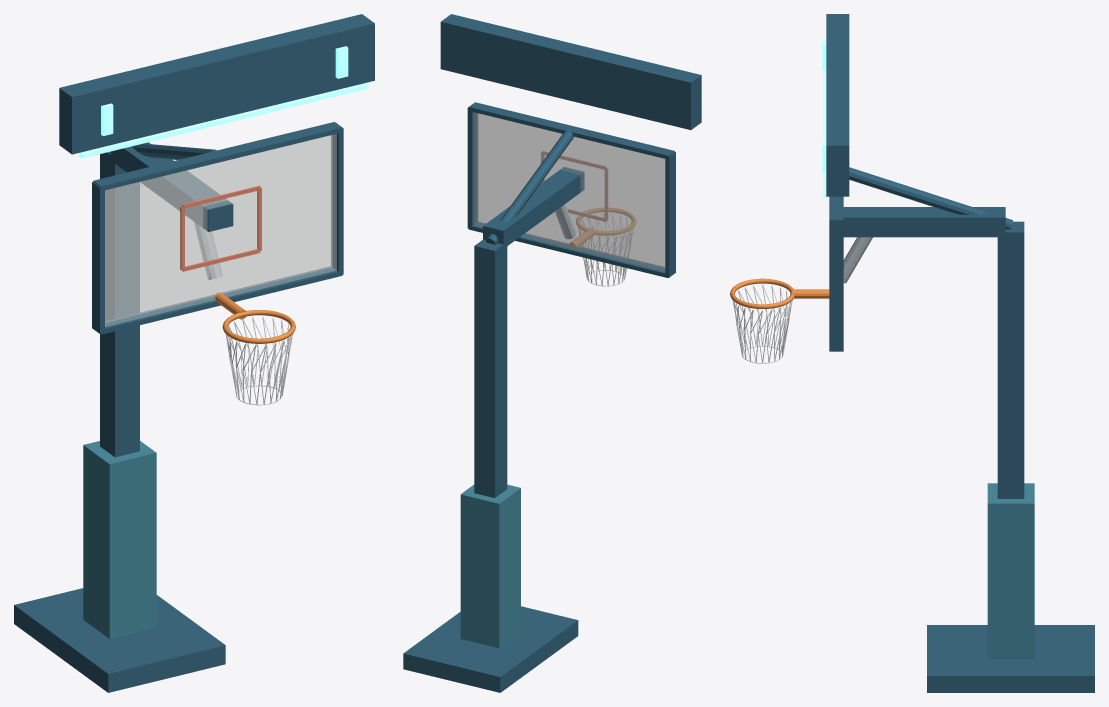
File: basket.gltf
The picture shows the model from 3 angles, left to right: view 1: azimuth 30°, elevation 25°; view 2: azimuth 150°, elevation 25°; view 3: azimuth 270°, elevation 25°; orthographic projection. The views are drawn at different scales.
Parts seen in each view (by area): view 1: BasketWithBackboardRimNet_RealScale; view 2: BasketWithBackboardRimNet_RealScale; view 3: BasketWithBackboardRimNet_RealScale.
Part boxes in pixels (x1,y1,x2,y2): BasketWithBackboardRimNet_RealScale: (14, 14, 374, 692); BasketWithBackboardRimNet_RealScale: (403, 14, 701, 692); BasketWithBackboardRimNet_RealScale: (730, 14, 1094, 692).
Bounding box in the file's own units: 2.32 × 4.83 × 2.72.
